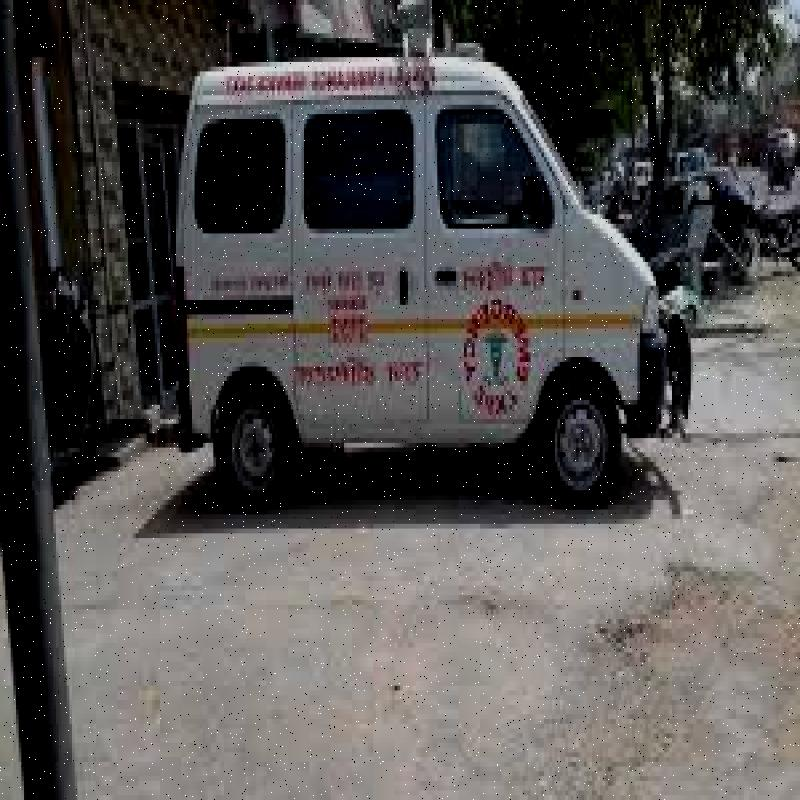ambulance: (161, 53, 662, 489)
